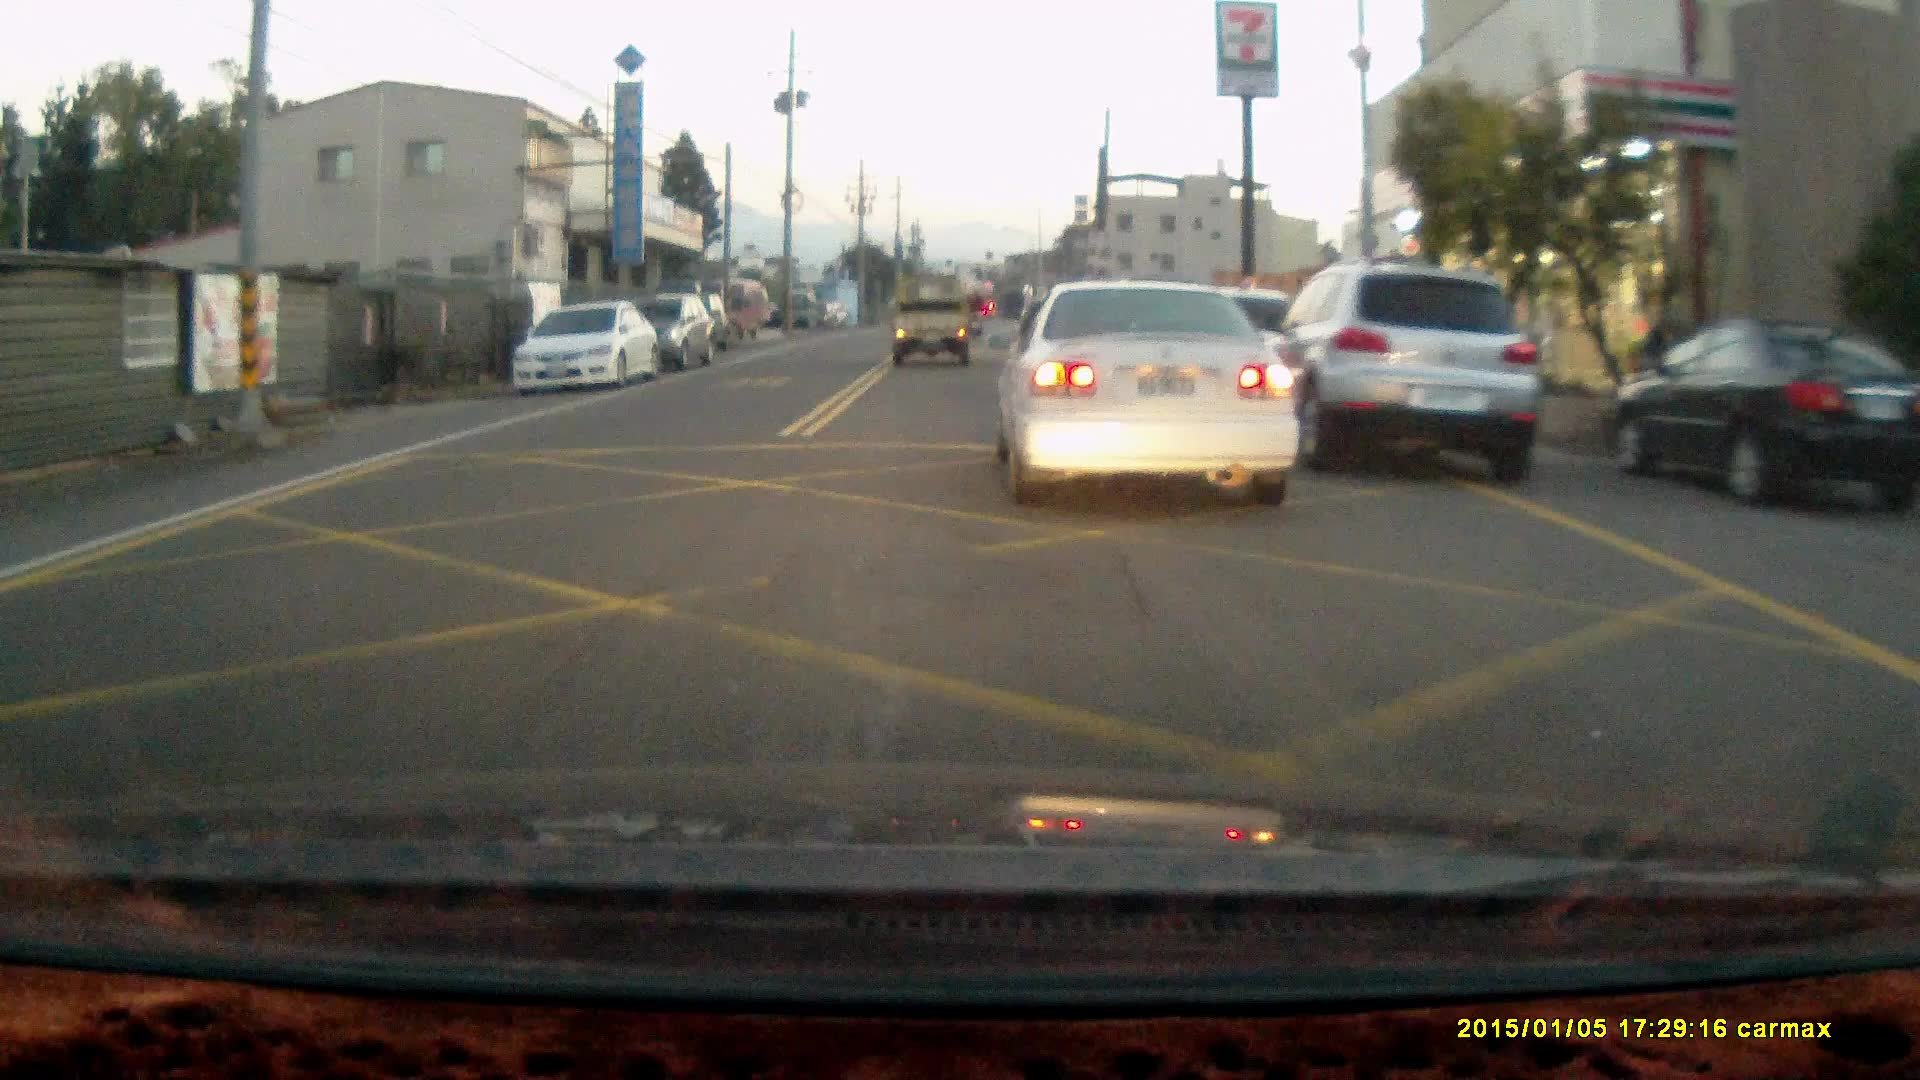rider: (961, 287, 987, 339)
vehicle: (991, 276, 1299, 498), (1252, 263, 1547, 485), (1604, 321, 1918, 507), (504, 296, 664, 397), (888, 279, 975, 367), (627, 295, 710, 373)
